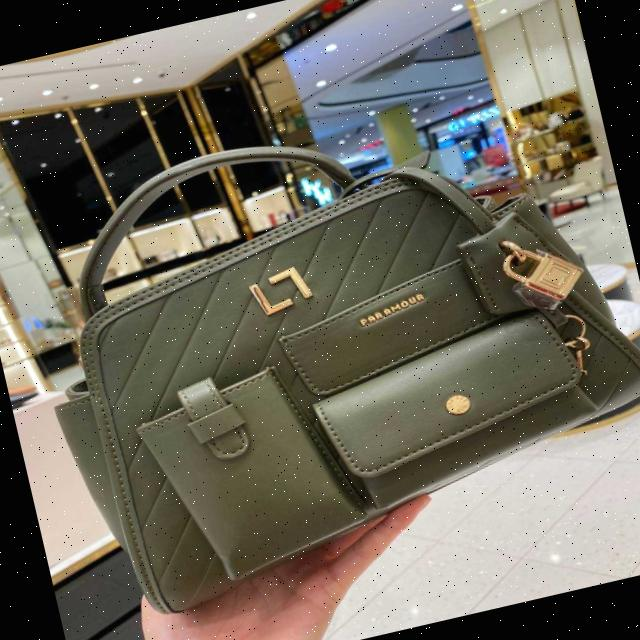Handbag: (30, 118, 640, 630)
